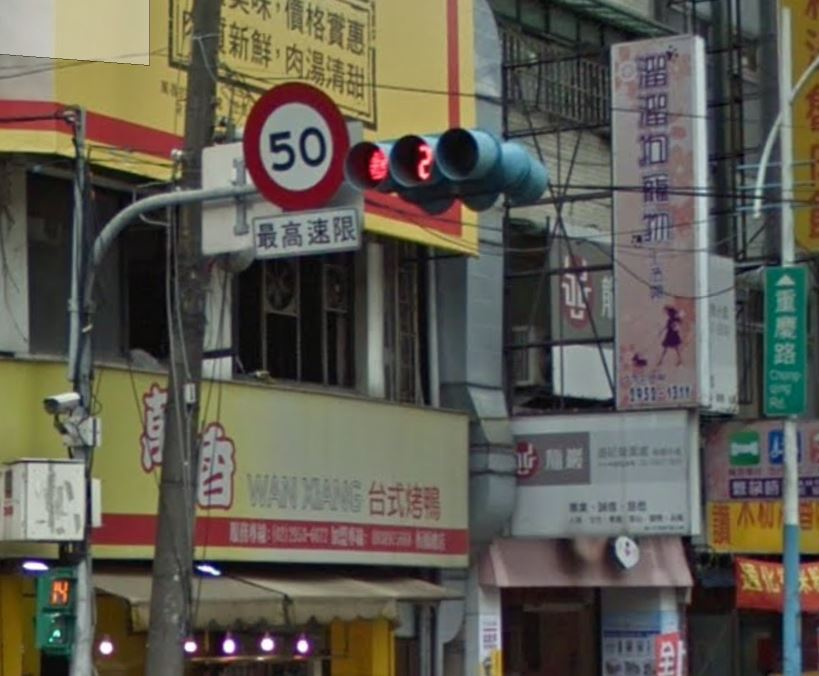Speed_limit_50km: (244, 80, 350, 211)
Traffic_light_red: (342, 129, 500, 193)
